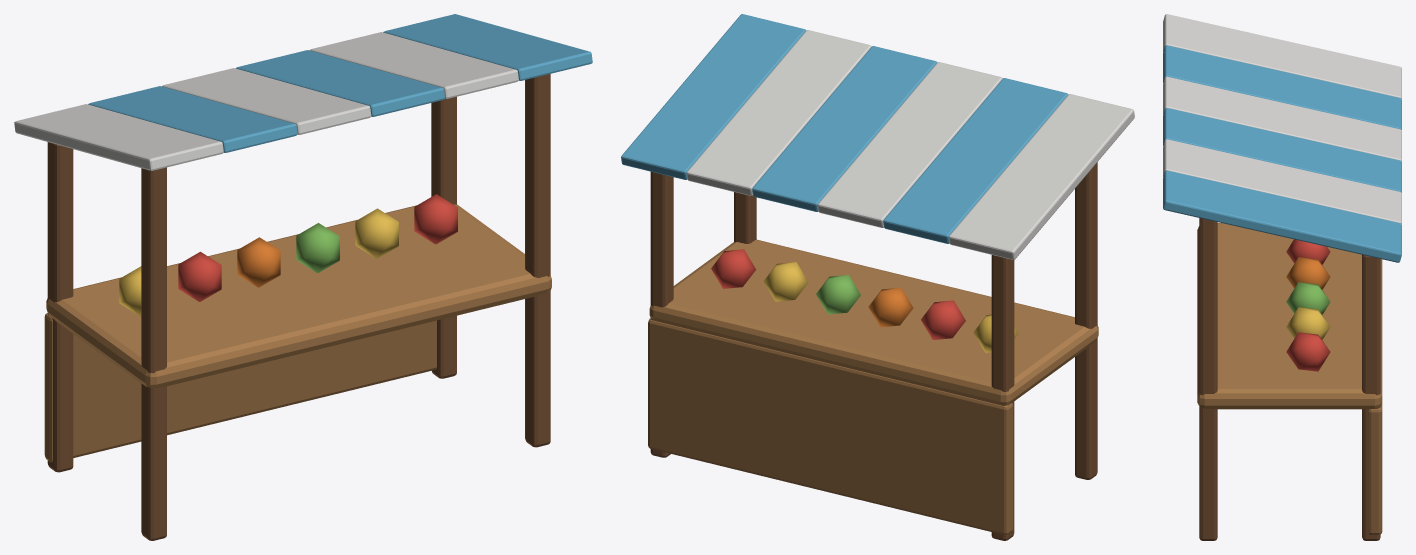
The model's file is market_stall_blue.fbx.
The picture shows the model from 3 angles, left to right: view 1: azimuth 30°, elevation 25°; view 2: azimuth 150°, elevation 25°; view 3: azimuth 270°, elevation 25°; orthographic projection. The views are drawn at different scales.
Parts seen in each view (by area): view 1: market_stall_blue; view 2: market_stall_blue; view 3: market_stall_blue.
Boxes of the visible parts, <box> form: market_stall_blue: <box>14,14,592,540</box>; market_stall_blue: <box>621,14,1134,540</box>; market_stall_blue: <box>1163,14,1401,540</box>.
Size of the model in its own units: 1.2 by 1.04 by 0.6452.
